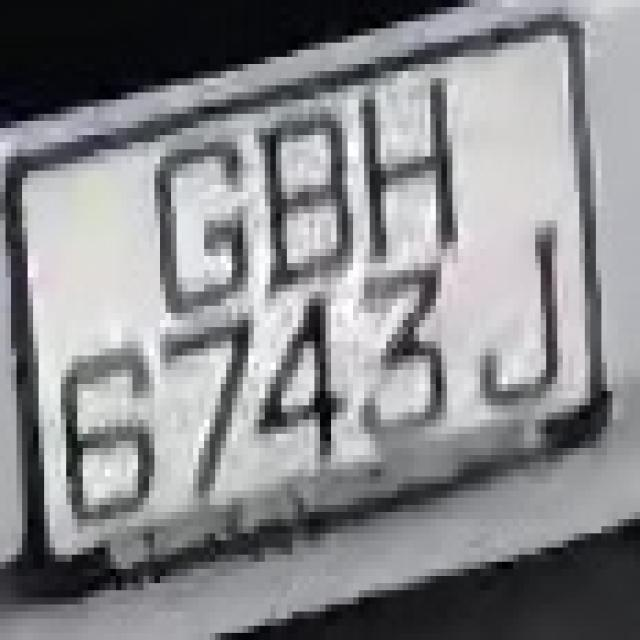3: (336, 256, 458, 469)
4: (243, 298, 364, 484)
6: (55, 320, 160, 555)
7: (149, 306, 259, 519)
B: (248, 99, 359, 313)
G: (132, 114, 254, 334)
H: (359, 78, 469, 249)
J: (458, 220, 579, 434)
